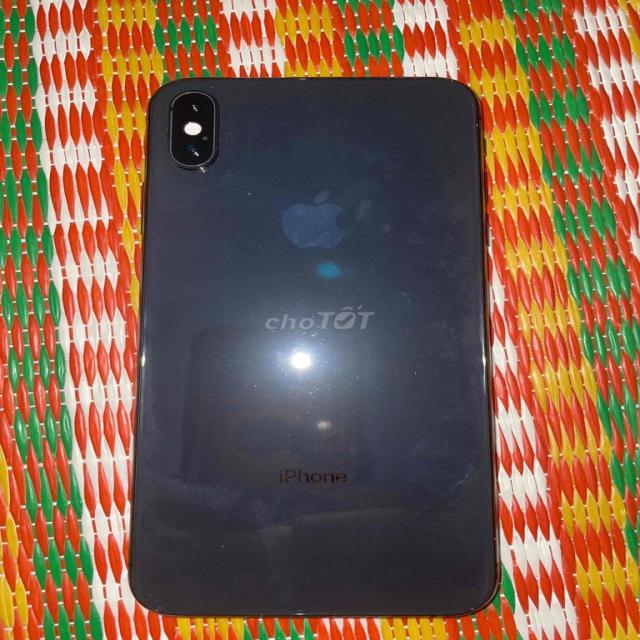scratch: (150, 333, 483, 616), (304, 264, 379, 304), (236, 232, 282, 277), (260, 280, 304, 306), (214, 106, 230, 169), (173, 76, 222, 95), (283, 72, 321, 90), (290, 268, 314, 283), (237, 188, 254, 204)
